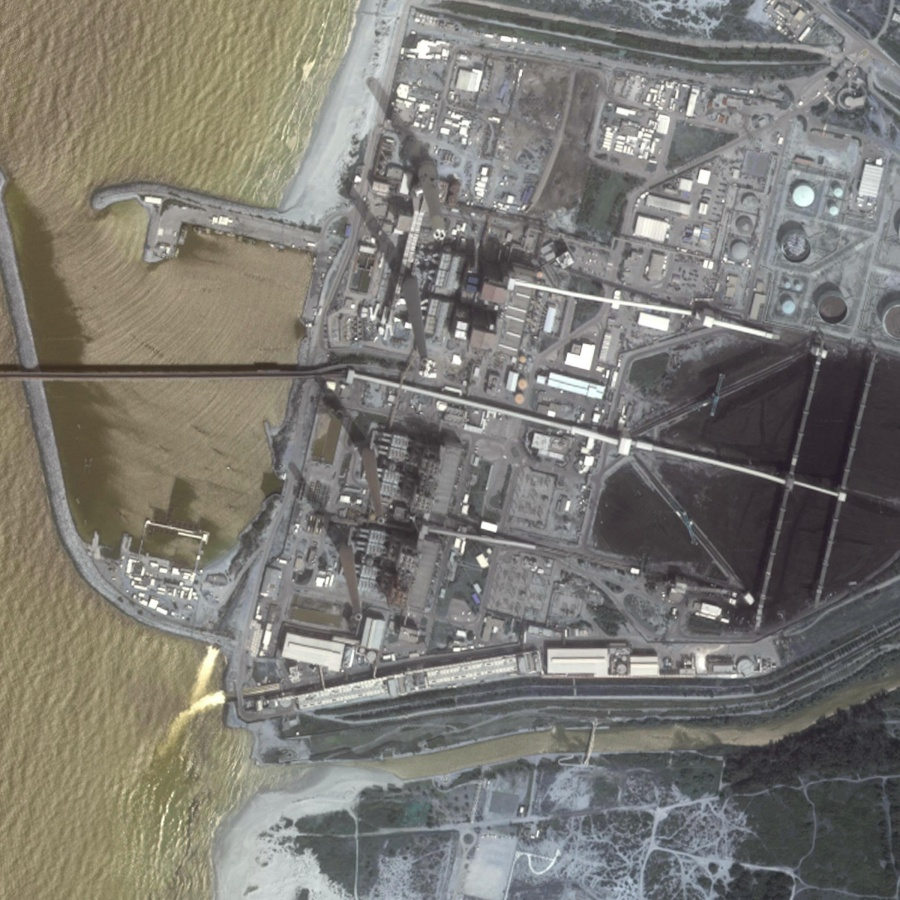PowerPlant: (255, 207, 516, 628)
